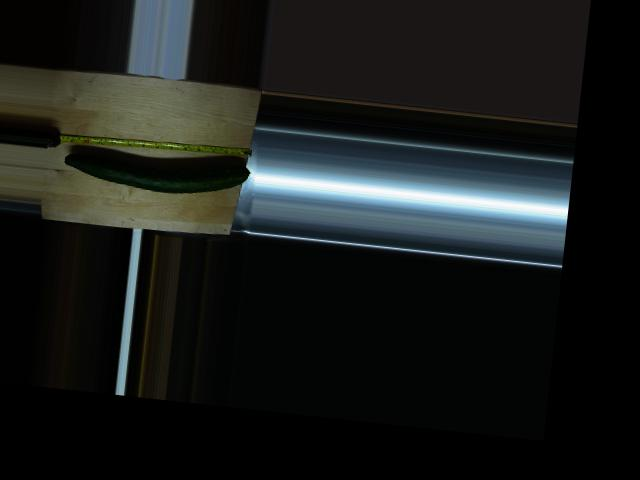cucumber: (61, 145, 250, 200)
